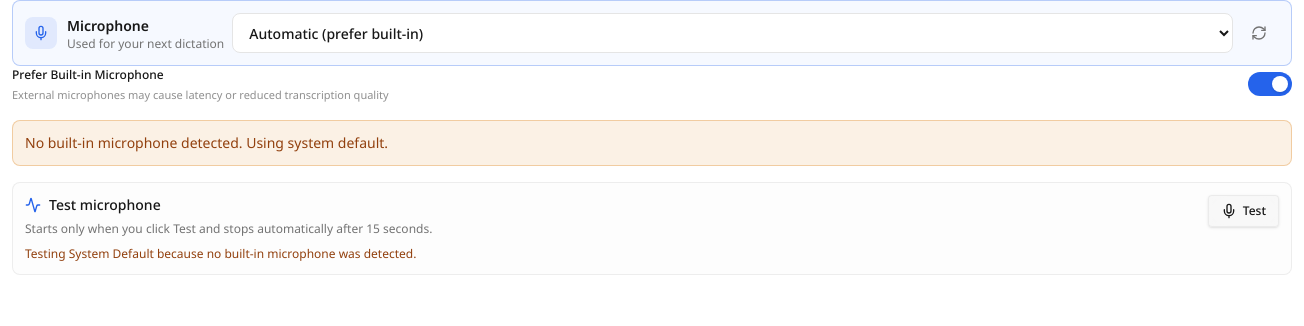
it: MicrophoneSettings › keeps the quick selector and Preferences synchronized
Select "System default microphone" in the dropdown named "Microphone used for dictation" at (733, 33), box [232,13,1233,53]
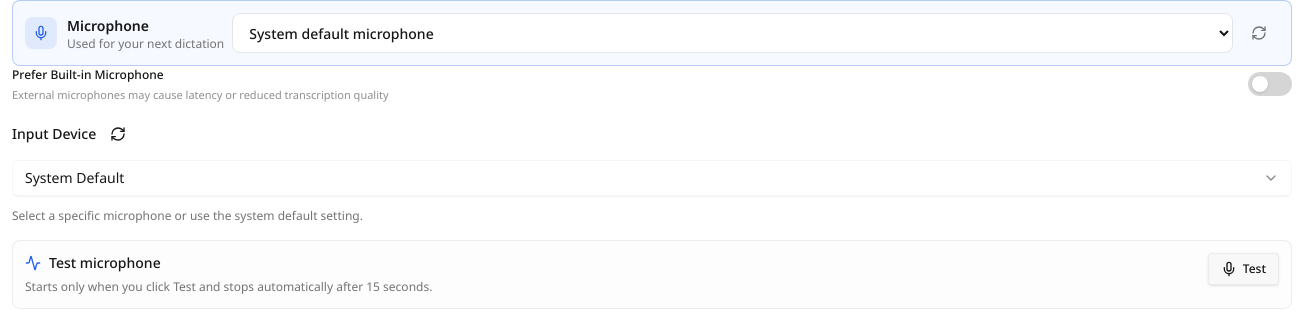
Expected: the dropdown named "Input device" reads "System Default", [12,160,1292,196]
Select "USB Condenser Microphone" in the dropdown named "Microphone used for dictation" at (733, 33), box [232,13,1233,53]
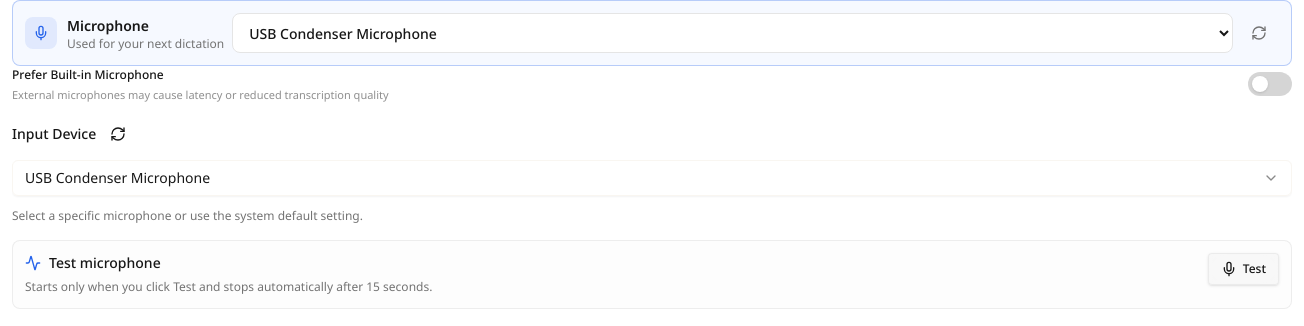
Result: the dropdown named "Input device" reads "USB Condenser Microphone" at [12,160,1292,196]
